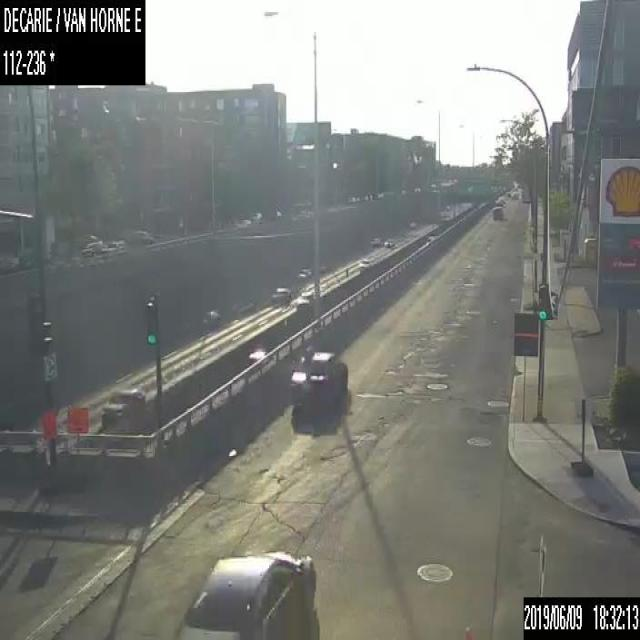construction: (66, 405, 88, 489), (41, 406, 58, 496)
vehicle: (174, 548, 316, 639), (288, 348, 346, 401), (100, 388, 145, 426), (79, 234, 105, 255), (124, 227, 152, 244), (199, 308, 223, 327), (245, 348, 268, 365), (271, 286, 291, 302), (491, 205, 504, 220), (369, 233, 381, 244), (384, 236, 393, 246), (494, 197, 504, 204)
